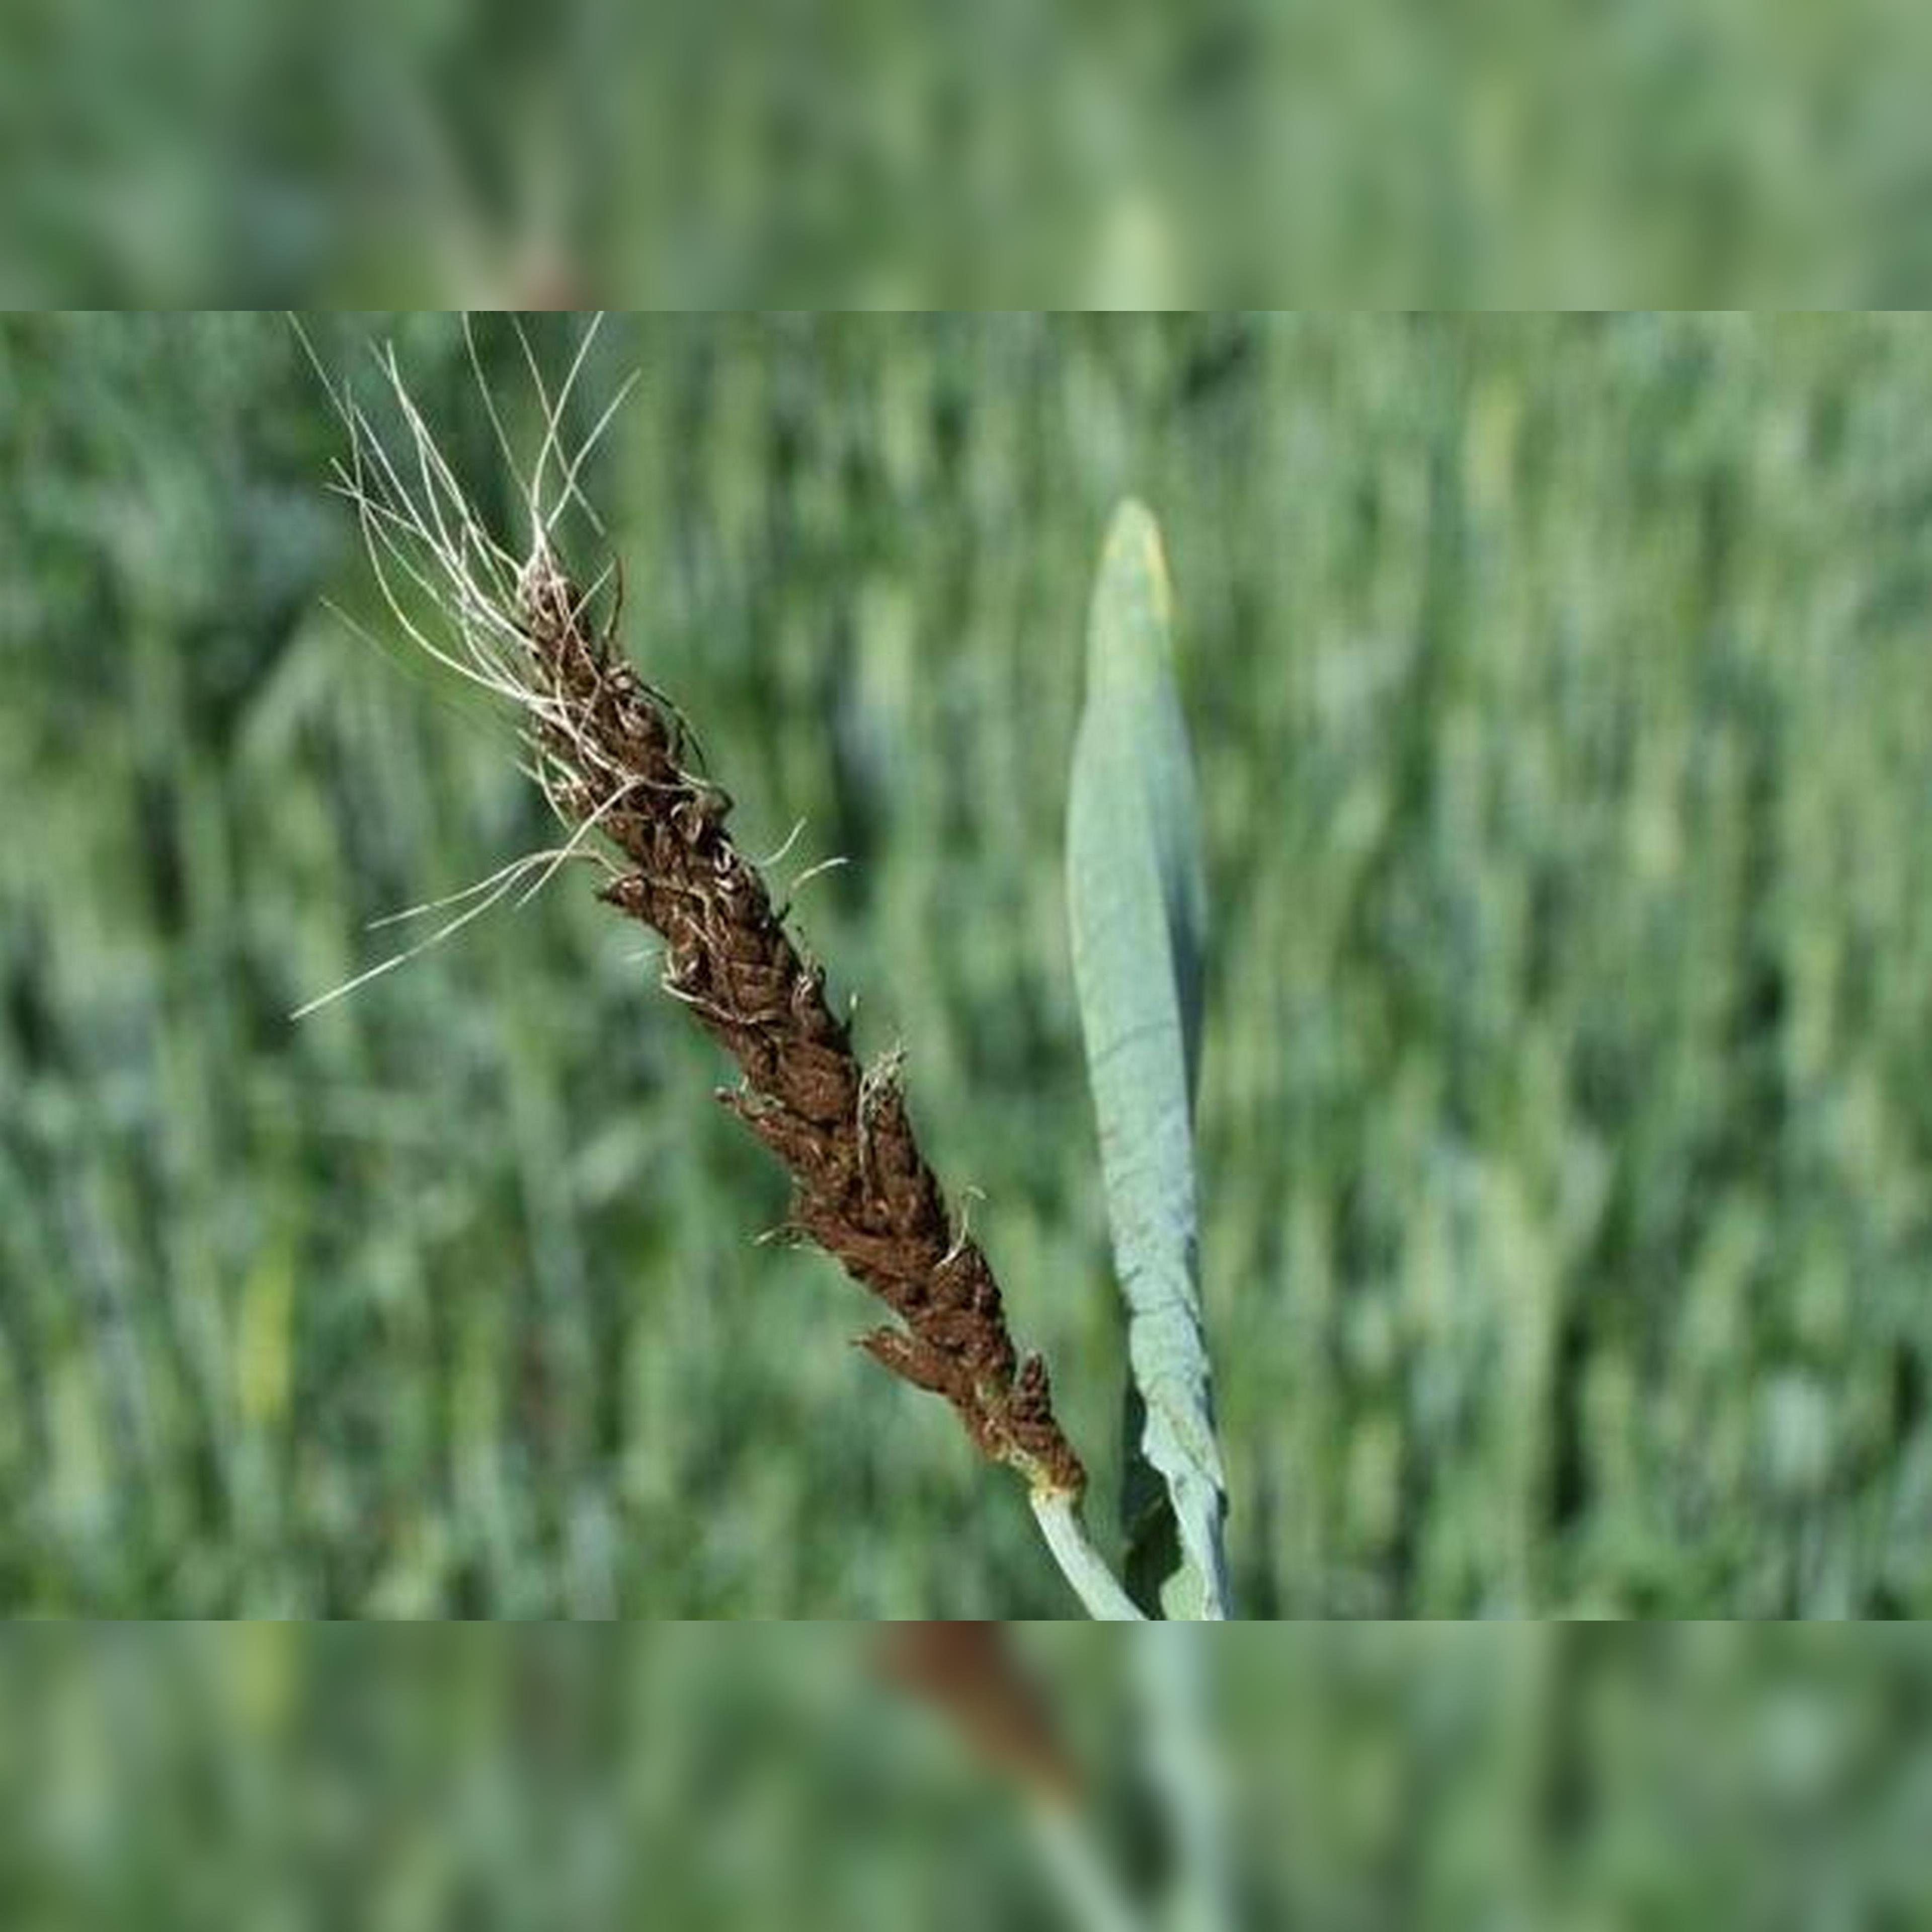Wheat Loose Smut: (433, 533, 1099, 1502)
